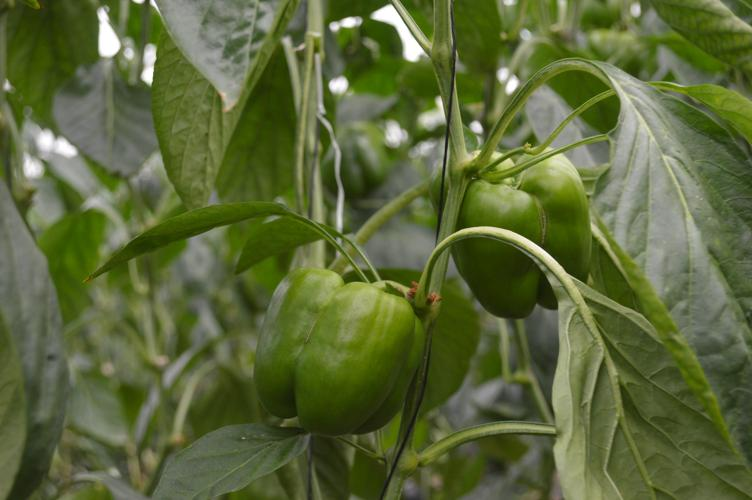BellPepper: (255, 263, 425, 435), (427, 151, 591, 318)
